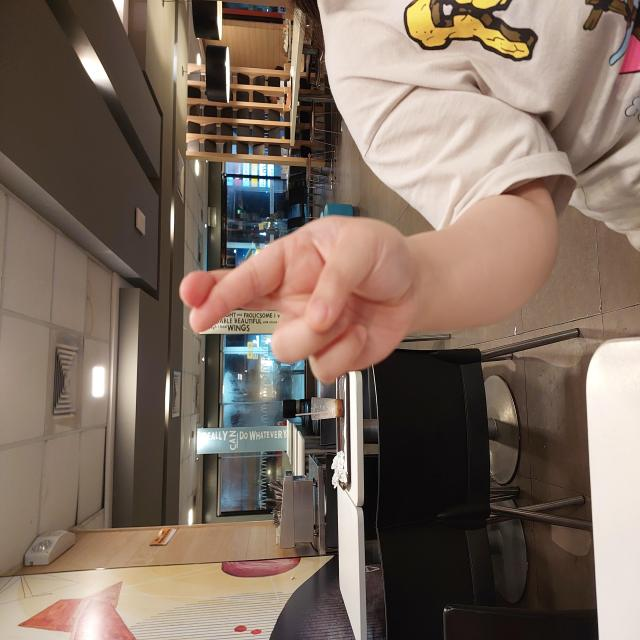R: (256, 178, 427, 420)
